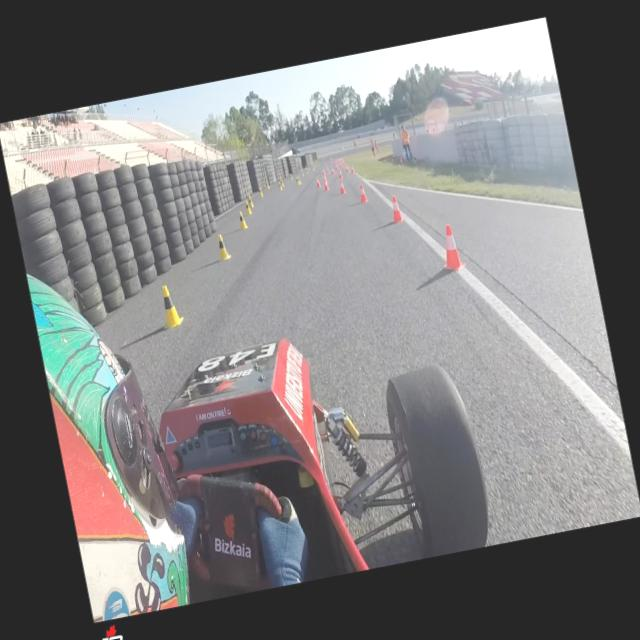orange_cone: (436, 223, 466, 272), (388, 195, 406, 224), (357, 182, 368, 204), (338, 179, 347, 195), (314, 176, 322, 189), (322, 178, 329, 191), (338, 169, 343, 179), (322, 170, 327, 179), (332, 167, 336, 175), (350, 165, 354, 173), (345, 165, 349, 173), (326, 166, 330, 172)
yellow_cone: (156, 282, 185, 330), (214, 232, 232, 262), (236, 210, 248, 230), (244, 201, 252, 215), (248, 197, 254, 208), (258, 187, 264, 198), (278, 182, 283, 191), (295, 177, 300, 186), (280, 176, 284, 186), (298, 176, 302, 186), (248, 194, 252, 203), (266, 182, 270, 190), (290, 173, 294, 180)
